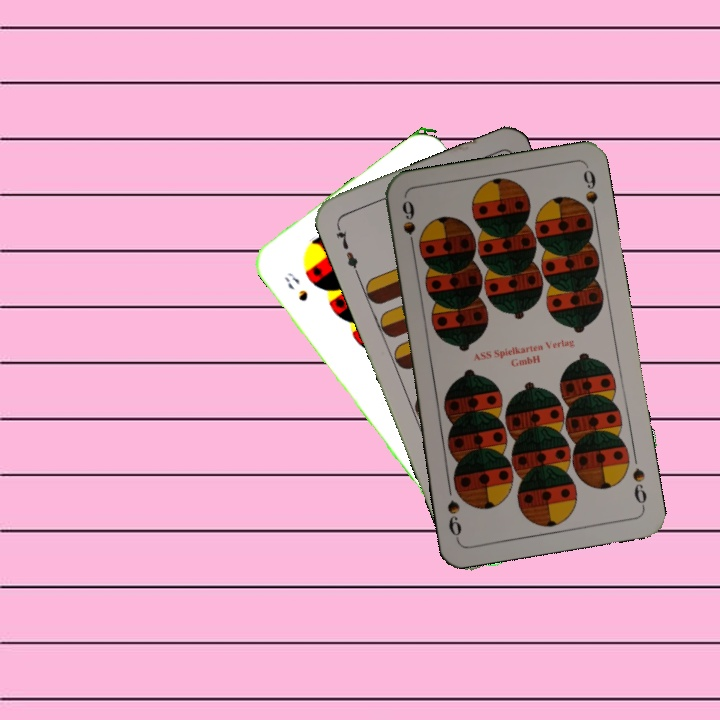E7: (332, 220, 361, 277)
S8: (280, 267, 311, 304)
S9: (398, 196, 418, 255), (628, 464, 650, 511)
